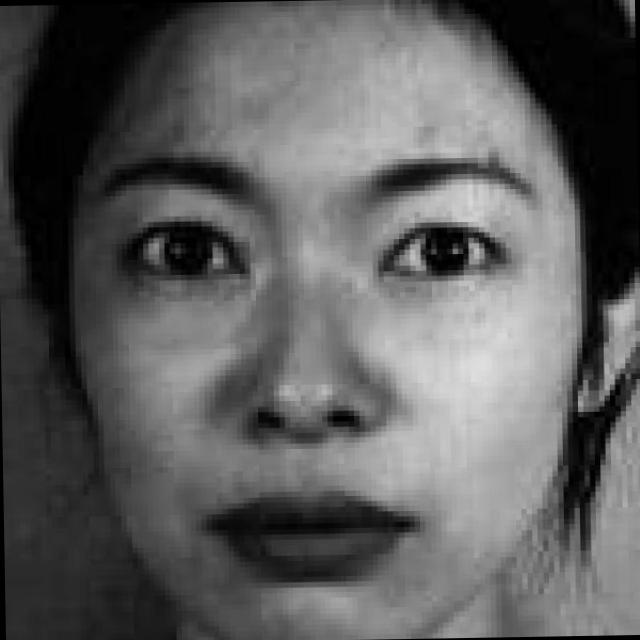fear: (74, 39, 545, 616)
